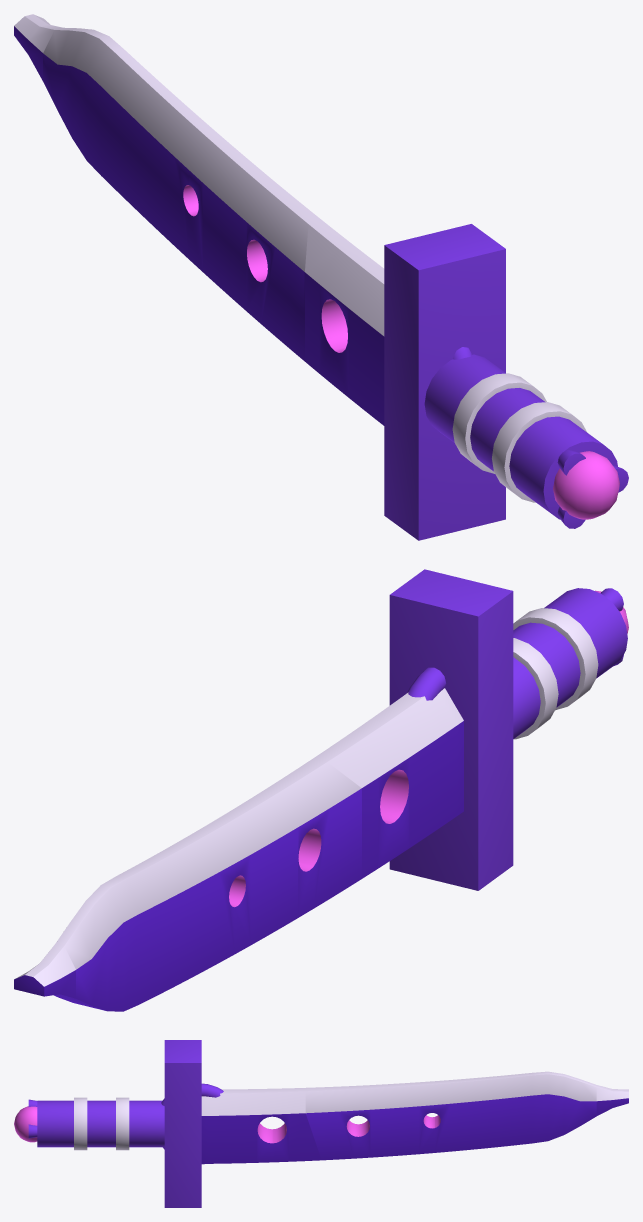
File: Sword_NetherSaber.glb
The picture shows the model from 3 angles, top to bottom: view 1: azimuth 30°, elevation 25°; view 2: azimuth 150°, elevation 25°; view 3: azimuth 270°, elevation 25°; orthographic projection. The views are drawn at different scales.
Parts seen in each view (by area): view 1: Sword_NetherSaber; view 2: Sword_NetherSaber; view 3: Sword_NetherSaber.
Boxes of the visible parts, left/top/right/bottom form: Sword_NetherSaber: left=14, top=14, right=628, bottom=540; Sword_NetherSaber: left=14, top=569, right=628, bottom=1011; Sword_NetherSaber: left=14, top=1040, right=628, bottom=1207.
Bounding box in the file's own units: 0.088 × 0.26 × 1.
1 material, 1 textured.
